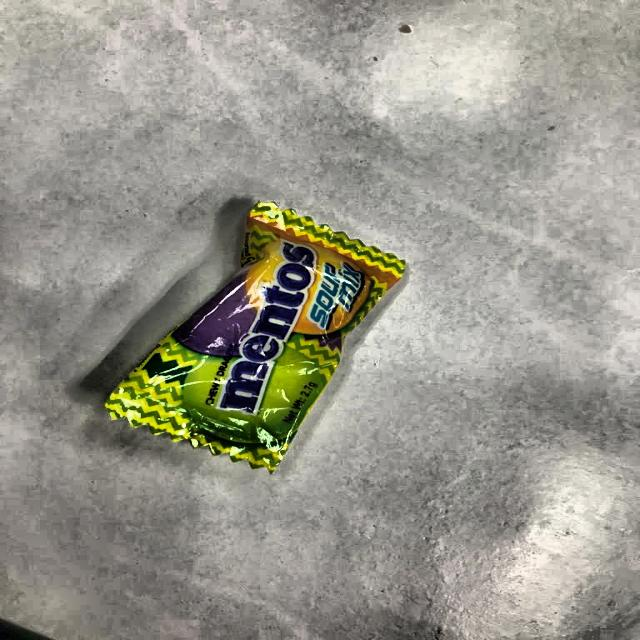Plastic: (104, 201, 409, 458)
